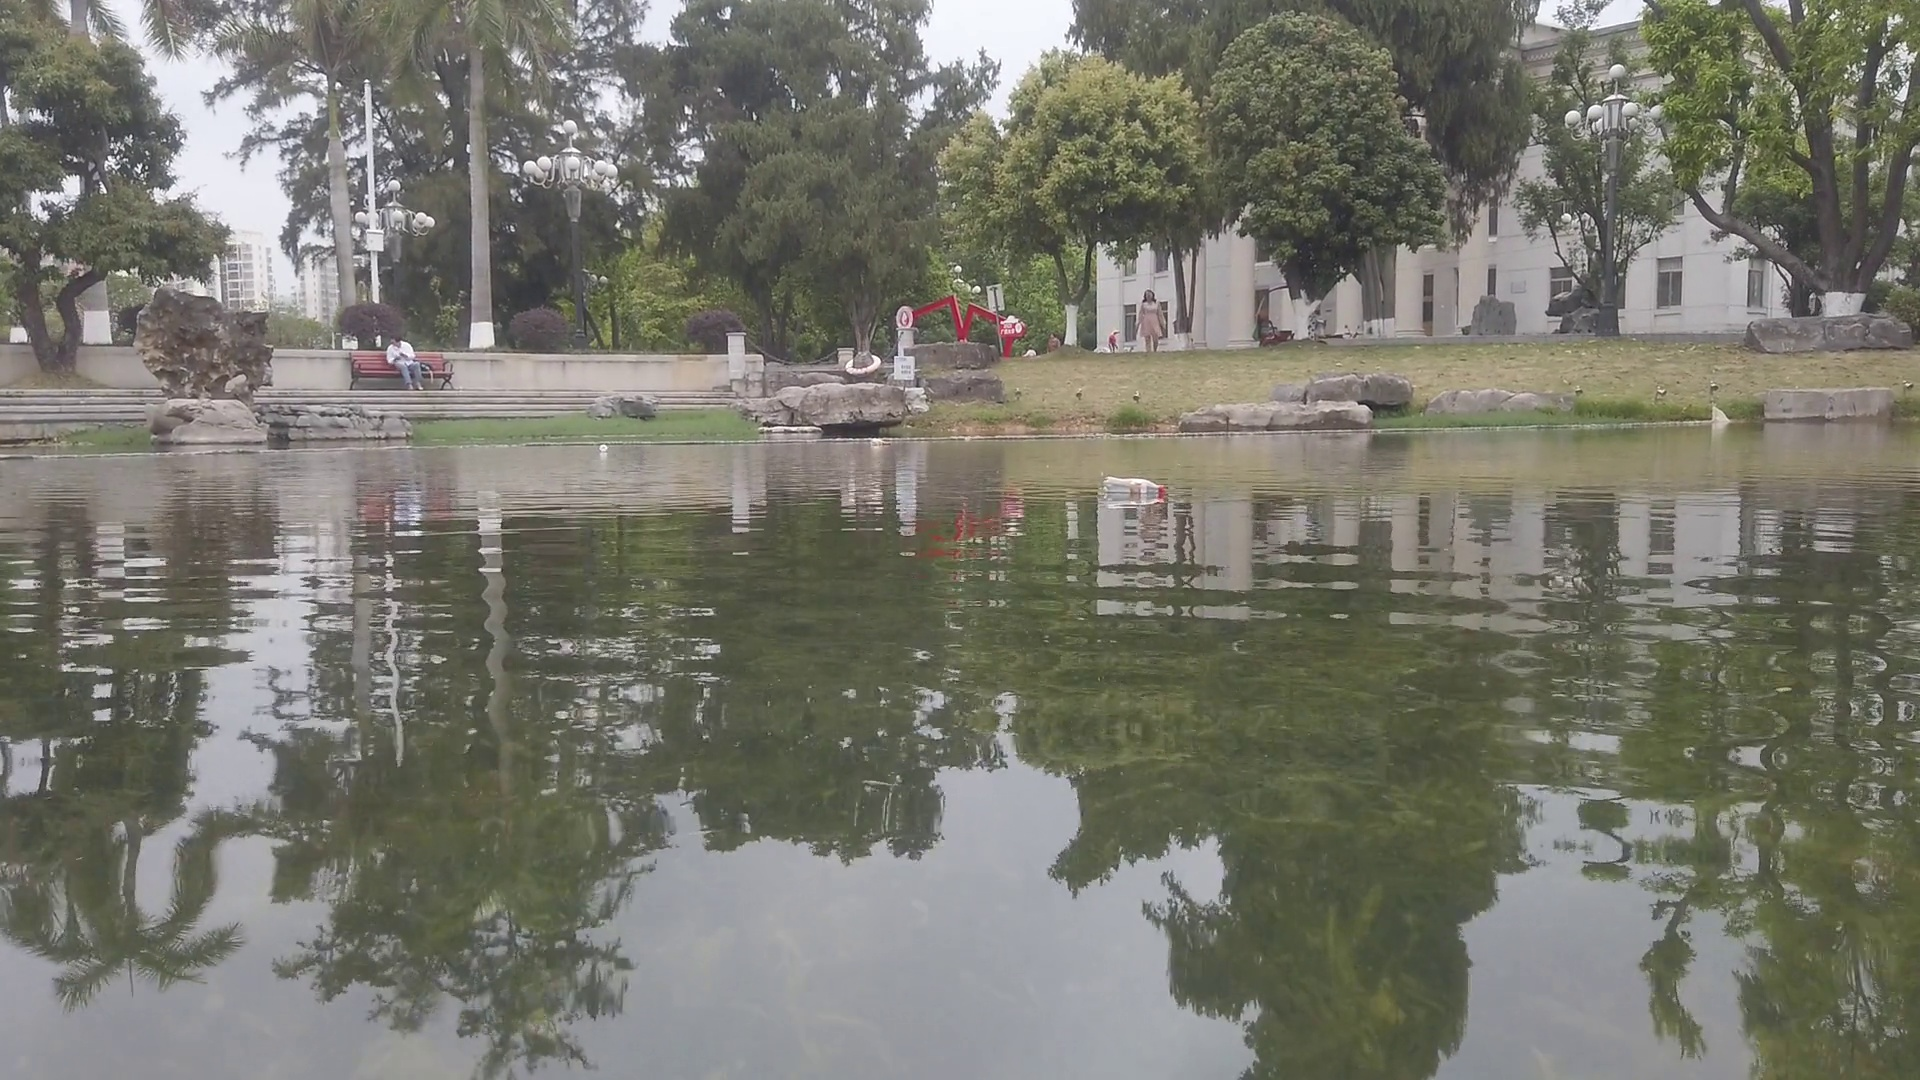bottle: (1101, 476, 1168, 501), (870, 436, 885, 448), (599, 442, 607, 452)
